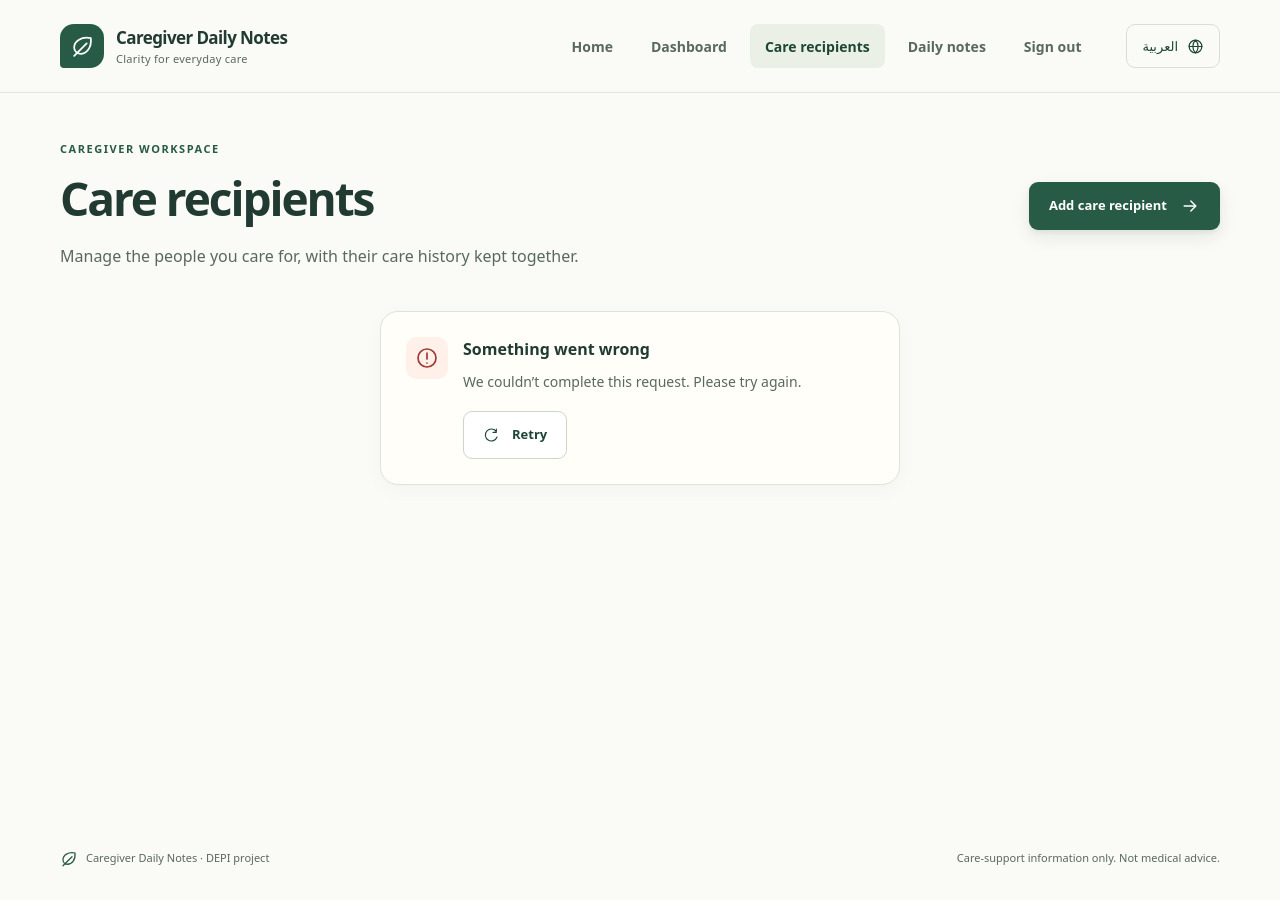
care recipients screens › retries a list error and does not display raw server messages
expect the message shows "We couldn’t complete this request.": met, box [463,372,801,391]
Click the button "Retry": [515, 435] box [463,411,567,459]
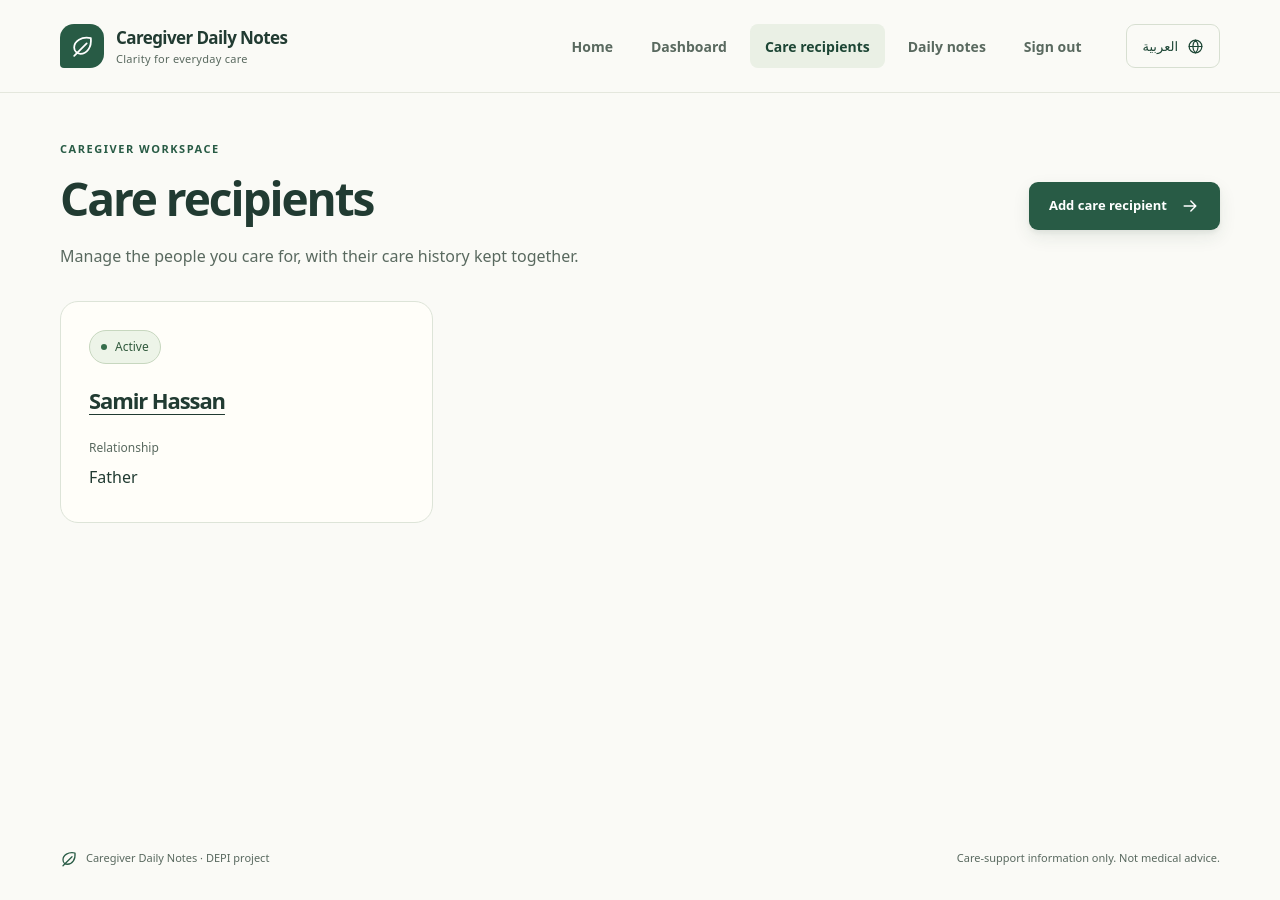
expect the link "Samir Hassan" is shown: met, box [89,385,225,415]
